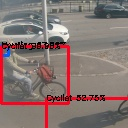Cyclist: (0, 38, 67, 102)
Hovding: (1, 47, 15, 55)
